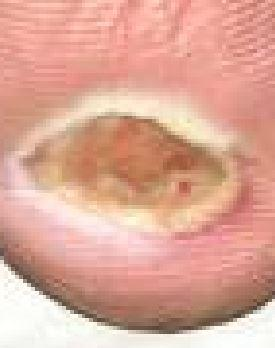Stage2: (15, 80, 256, 254)
